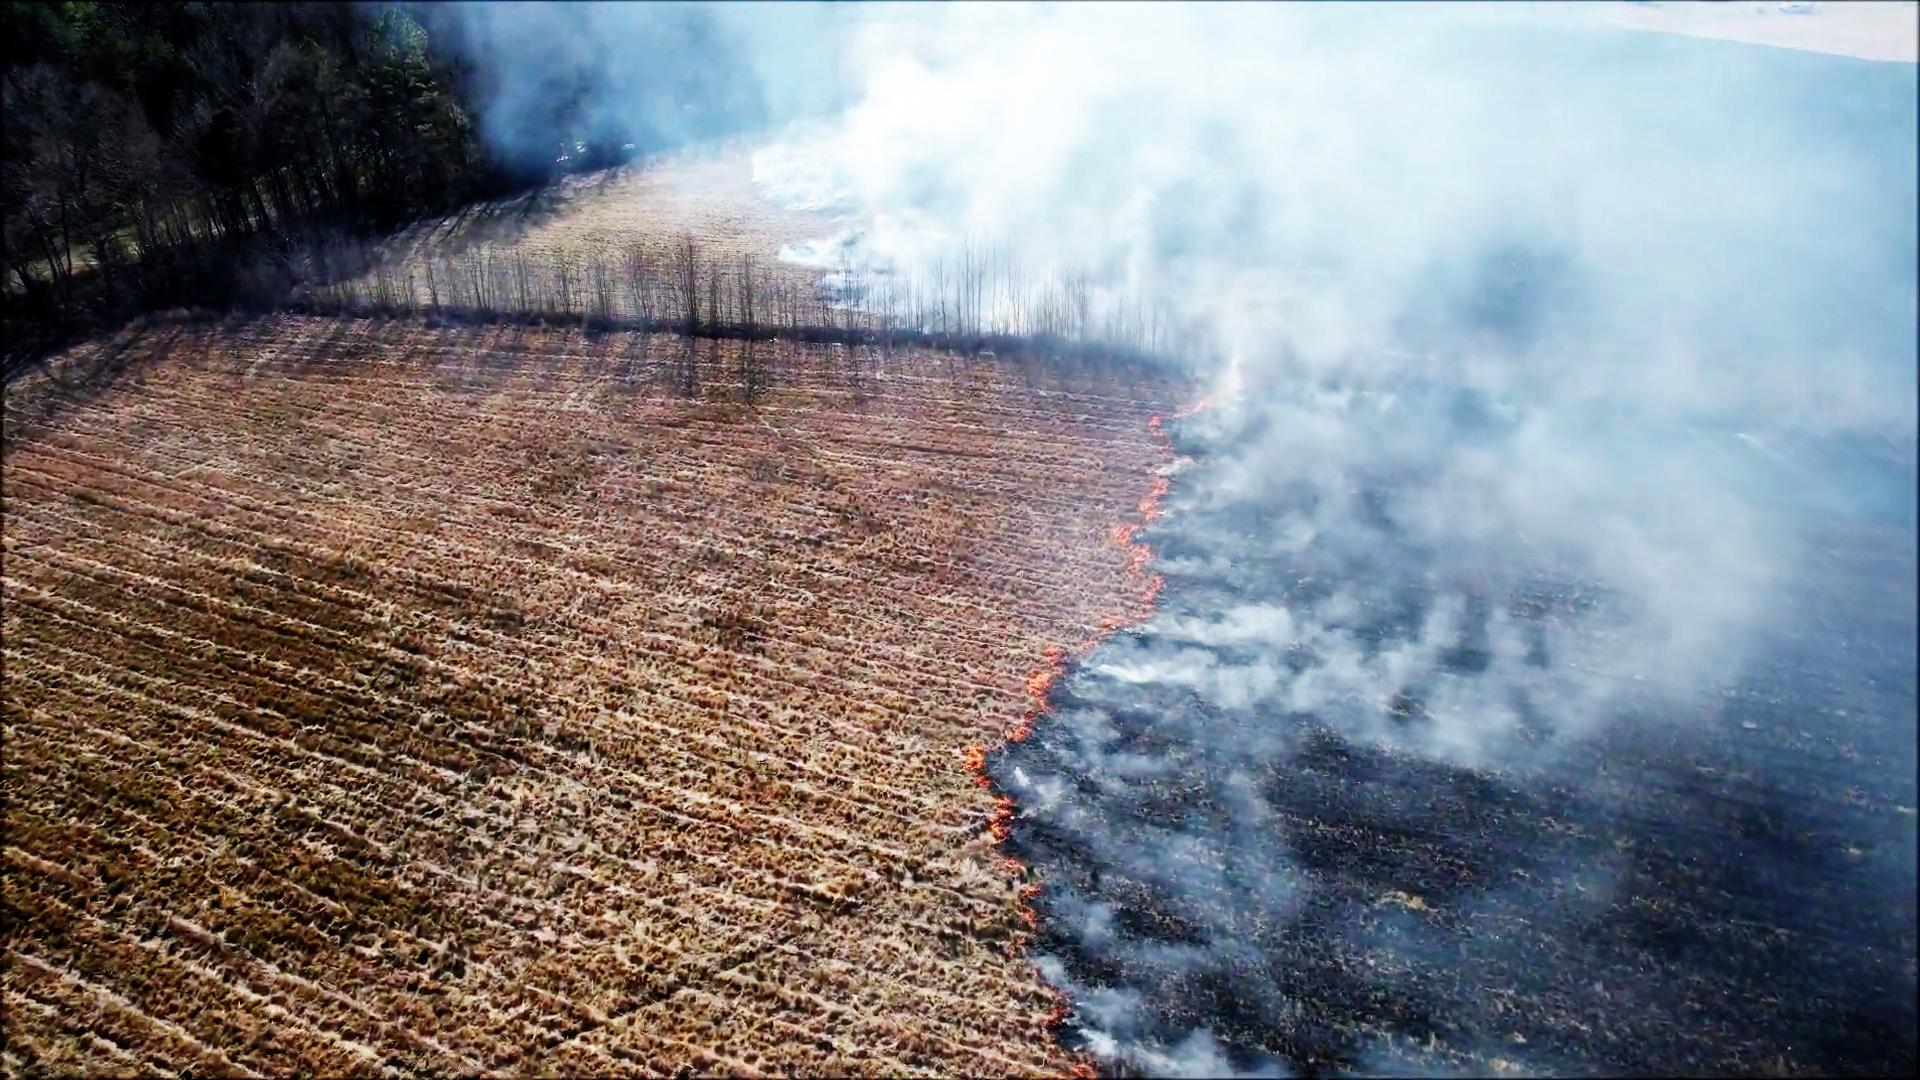smoke: (775, 11, 1920, 320), (1080, 580, 1365, 705)
